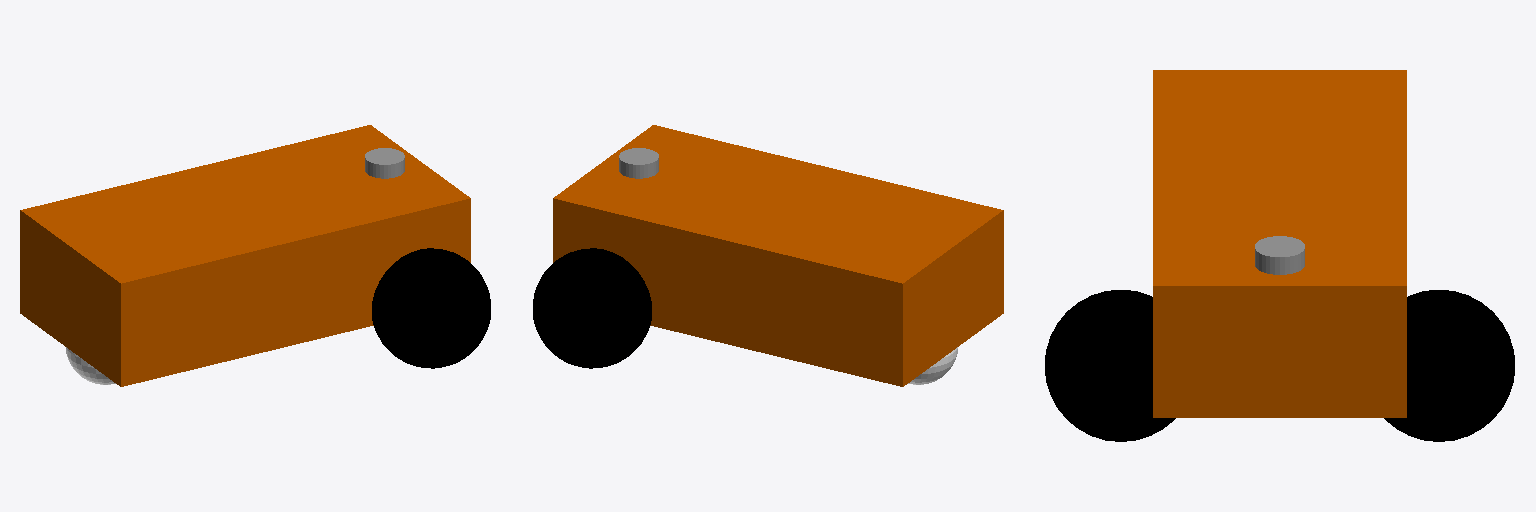
The robot description file, URDF, robot "diff_drive":
<?xml version="1.0"?>
<robot name="diff_drive" xmlns:xacro="http://www.ros.org/wiki/xacro">
  <material name="orange">
    <color rgba="0.8 0.4 0.0 1.0"/>
  </material>

  <material name="black">
    <color rgba="0 0 0 1.0"/>
  </material>

  <material name="white">
    <color rgba="1 1 1 1.0"/>
  </material>

  <link name="base_link">
    <origin xyz="0 0 1.5" rpy="0 0 0"/>
    <collision>
      <geometry>
        <box size="2.01142 1 0.568726"/>
      </geometry>
    </collision>

    <visual>
      <geometry>
        <box size="2.01142 1 0.568726"/>
      </geometry>
      <material name="orange"/>
    </visual>

    <inertial>
      <mass value="1.14395"/>
      <inertia
        ixx="0.126164"
        ixy="0.0"
        ixz="0.0"
        iyy="0.416519"
        iyz="0.0"
        izz="0.481014"/>
    </inertial>
  </link>

  <joint name="left_wheel_joint" type="continuous">
    <origin xyz="0.70571 0.625029 -0.2" rpy="-1.5707 0 0"/>
    <parent link="base_link"/>
    <child link="left_wheel"/>
    <axis xyz="0 0 1"/>
    <dynamics damping="0.2"/>
  </joint>

  <link name="left_wheel">
    <collision>
      <geometry>
        <sphere radius="0.3"/>
      </geometry>
    </collision>

    <visual>
      <geometry>
        <sphere radius="0.3"/>
      </geometry>
      <material name="black"/>
    </visual>

    <inertial>
      <mass value="2"/>
      <inertia ixx="0.145833"
               ixy="0.0"
               ixz="0.0"
               iyy="0.145833"
               iyz="0.0"
               izz="0.125"/>
    </inertial>
  </link>

  <joint name="right_wheel_joint" type="continuous">
    <origin xyz="0.70571 -0.625029 -0.2" rpy="-1.5707 0 0"/>
    <parent link="base_link"/>
    <child link="right_wheel"/>
    <axis xyz="0 0 1"/>
    <dynamics damping="0.2"/>
  </joint>

  <link name="right_wheel">
    <collision>
      <geometry>
        <sphere radius="0.3"/>
      </geometry>
    </collision>

    <visual>
      <geometry>
        <sphere radius="0.3"/>
      </geometry>
      <material name="black"/>
    </visual>

    <inertial>
      <mass value="2"/>
      <inertia ixx="0.145833"
               ixy="0.0"
               ixz="0.0"
               iyy="0.145833"
               iyz="0.0"
               izz="0.125"/>
      </inertial>
  </link>

  <joint name="caster_joint" type="fixed">
    <origin xyz="-0.805711 0 -0.3" rpy="0 0 0"/>
    <parent link="base_link"/>
    <child link="caster"/>
  </joint>

  <link name="caster">
    <collision>
      <geometry>
        <sphere radius="0.2"/>
      </geometry>
    </collision>

    <visual>
      <geometry>
        <sphere radius="0.2"/>
      </geometry>
      <material name="white"/>
    </visual>

    <inertial>
      <mass value="0.005"/>
      <inertia
        ixx="0.1"
        ixy="0.0"
        ixz="0.0"
        iyy="0.1"
        iyz="0.0"
        izz="0.1"/>
    </inertial>
  </link>

  <joint name="lidar_joint" type="fixed">
    <parent link="base_link" />
    <child link="lidar_link" />
    <origin xyz="0.8 0 0.31" rpy="0 0 0" />
  </joint>

  <link name="lidar_link">
    <visual>
      <geometry>
        <cylinder radius="0.1" length="0.1"/>
      </geometry>
      <material name="grey">
        <color rgba="0.625 0.625 0.625 1" />
      </material>
    </visual>

    <collision>
      <geometry>
        <cylinder radius="0.1" length="0.1"/>
      </geometry>
    </collision>

    <inertial>
      <mass value="0.01"/>
      <inertia
        ixx="0.0001"
        ixy="0.0"
        ixz="0.0"
        iyy="0.0001"
        iyz="0.0"
        izz="0.0001"/>
    </inertial>
  </link>

  <joint name="camera_joint" type="fixed">
    <parent link="base_link" />
    <child link="camera_link" />
    <origin xyz="0.8 0 0.15" rpy="0 0 0" />
  </joint>

  <link name="camera_link">
    <visual>
      <geometry>
        <box size="0.2 0.2 0.2"/>
      </geometry>
      <material name="grey">
        <color rgba="0.625 0.625 0.625 1" />
      </material>
    </visual>

    <collision>
      <geometry>
        <box size="0.2 0.2 0.2"/>
      </geometry>
    </collision>

    <inertial>
      <mass value="0.01"/>
      <inertia
        ixx="0.0001"
        ixy="0.0"
        ixz="0.0"
        iyy="0.0001"
        iyz="0.0"
        izz="0.0001"/>
    </inertial>
  </link>

  <ros2_control name="GazeboSimSystem" type="system">
    <hardware>
      <plugin>gz_ros2_control/GazeboSimSystem</plugin>
    </hardware>
    <joint name="left_wheel_joint">
      <command_interface name="velocity">
        <param name="min">-1</param>
        <param name="max">1</param>
      </command_interface>
      <state_interface name="position"/>
      <state_interface name="velocity"/>
    </joint>
    <joint name="right_wheel_joint">
      <command_interface name="velocity">
        <param name="min">-1</param>
        <param name="max">1</param>
      </command_interface>
      <state_interface name="position"/>
      <state_interface name="velocity"/>
    </joint>
  </ros2_control>

</robot>

--- What the picture shows (computed from the rendered views, not written in the file) ---
The picture shows the robot from 3 angles, left to right: view 1: azimuth 30°, elevation 25°; view 2: azimuth 150°, elevation 25°; view 3: azimuth 270°, elevation 25°; orthographic projection.
Model diff_drive with 6 links and 5 joints (2 continuous, 3 fixed), rooted at base_link, posed all joints at 0.
Visible links, largest first — view 1: base_link, right_wheel, lidar_link, caster; view 2: base_link, left_wheel, lidar_link, caster; view 3: base_link, left_wheel, right_wheel, lidar_link.
Boxes of the visible links, bbox=[...] form: base_link: bbox=[20, 125, 470, 386]; right_wheel: bbox=[372, 248, 490, 368]; lidar_link: bbox=[365, 148, 404, 178]; caster: bbox=[66, 347, 115, 384]; base_link: bbox=[553, 125, 1003, 386]; left_wheel: bbox=[533, 248, 651, 368]; lidar_link: bbox=[619, 148, 658, 178]; caster: bbox=[908, 347, 957, 384]; base_link: bbox=[1153, 70, 1406, 417]; left_wheel: bbox=[1384, 290, 1514, 441]; right_wheel: bbox=[1045, 290, 1175, 441]; lidar_link: bbox=[1255, 236, 1304, 274].
Size in the robot's own frame: 2.01 by 1.85 by 0.86 metres.
Geometry: primitives only (box / cylinder / sphere), no mesh files.